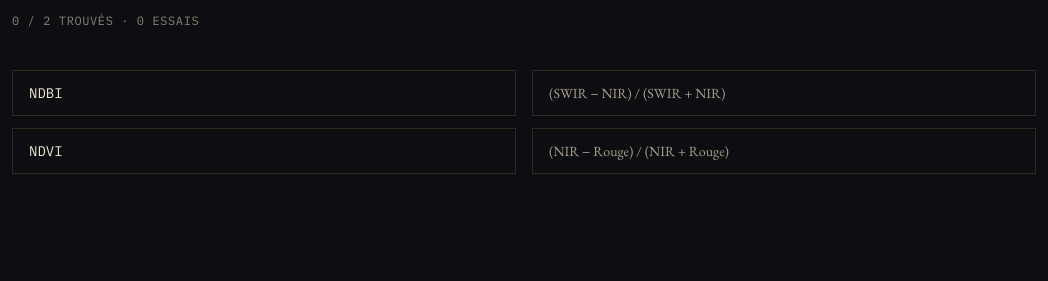
Test: MatchingGame › shows a completion message once every pair is solved
The width and height of the screenshot is (1048, 281).
Click the button "NDVI". click: (46, 151)
box: [12,128,516,174]
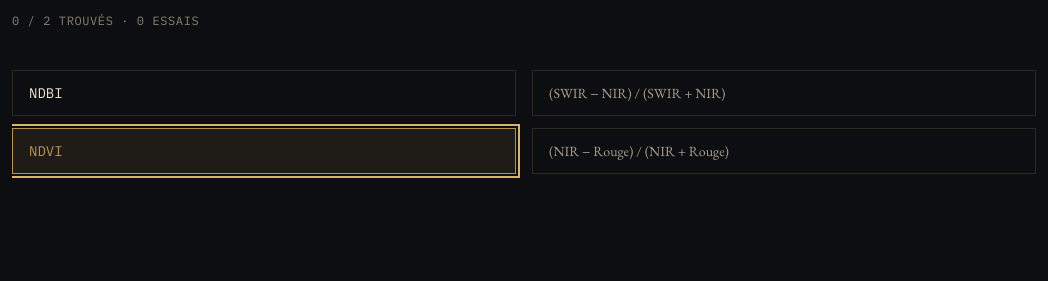
Click the button "(NIR − Rouge) / (NIR + Rouge)". click: (639, 151)
box: [532,128,1036,174]
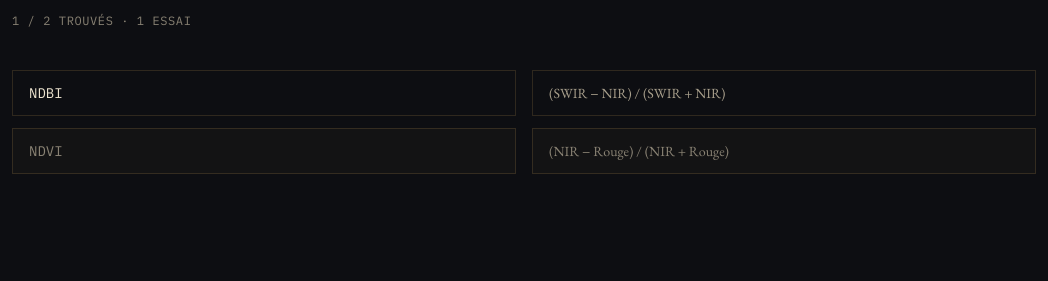
Click the button "NDBI". click: (46, 93)
box: [12,70,516,116]
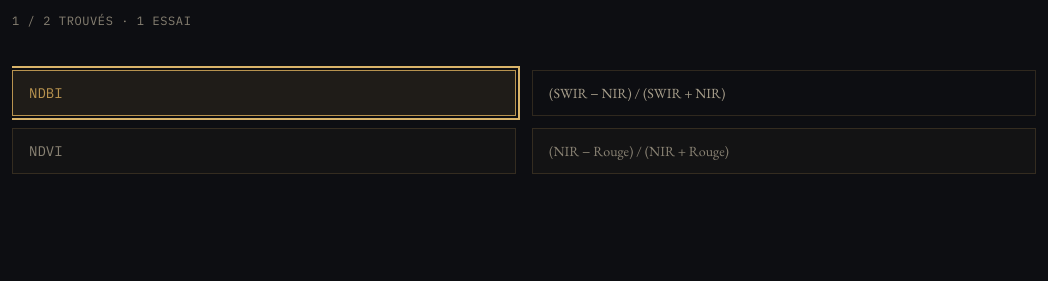
Click the button "(SWIR − NIR) / (SWIR + NIR)". click: (637, 93)
box: [532,70,1036,116]
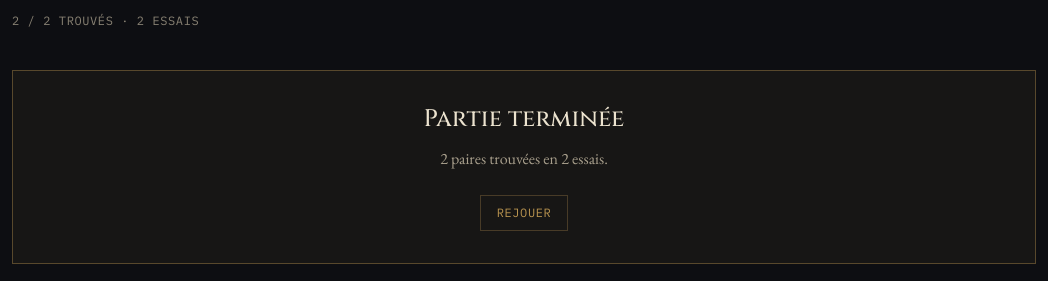
expect the text "Partie terminée" is shown: met, box [424,103,624,135]
